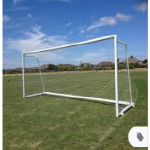goals: (21, 33, 137, 118)
